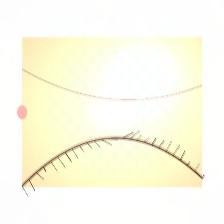pinguecula_lesion: (46, 88, 85, 119)
